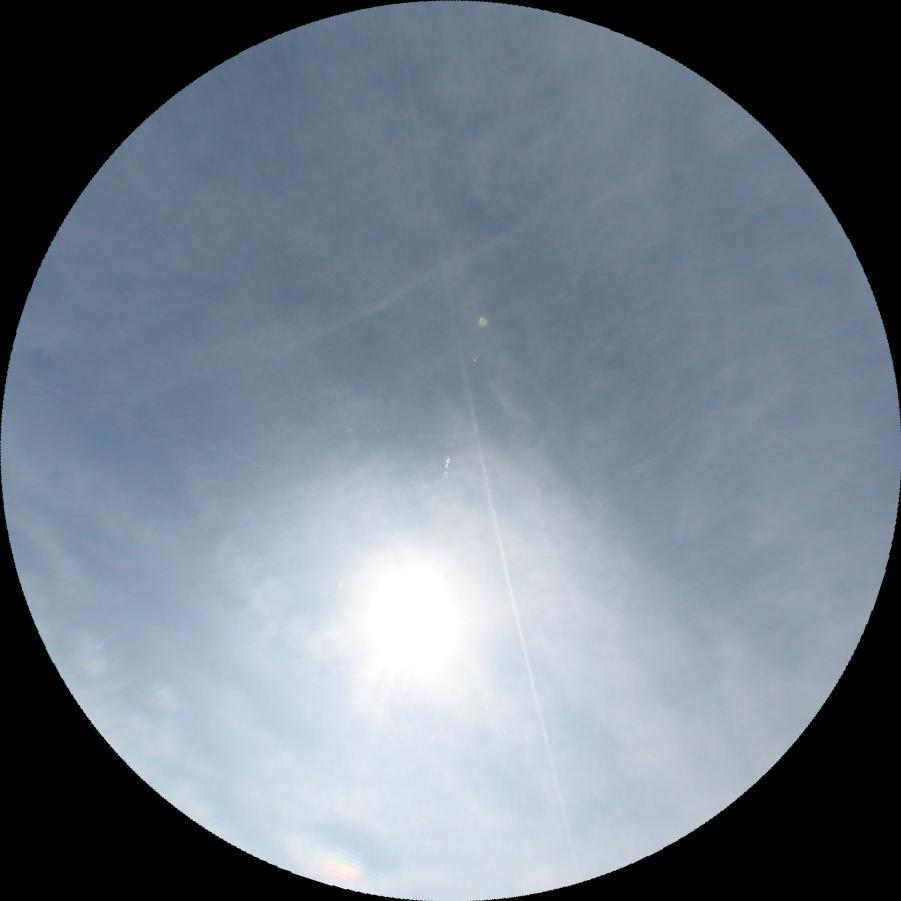contrail old: (385, 3, 581, 884)
contrail veryold: (76, 224, 527, 425)
sun: (349, 552, 474, 689)
